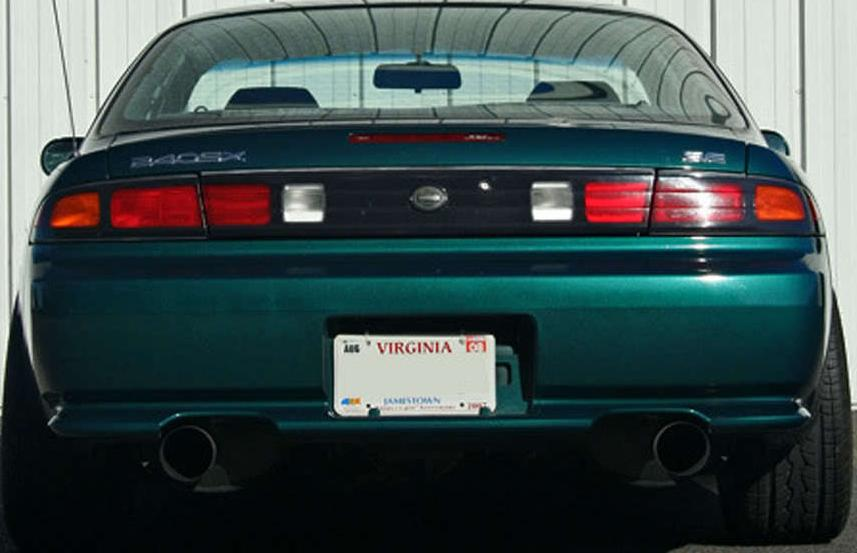back_view: (0, 175, 850, 501)
backlight: (577, 162, 825, 262)
